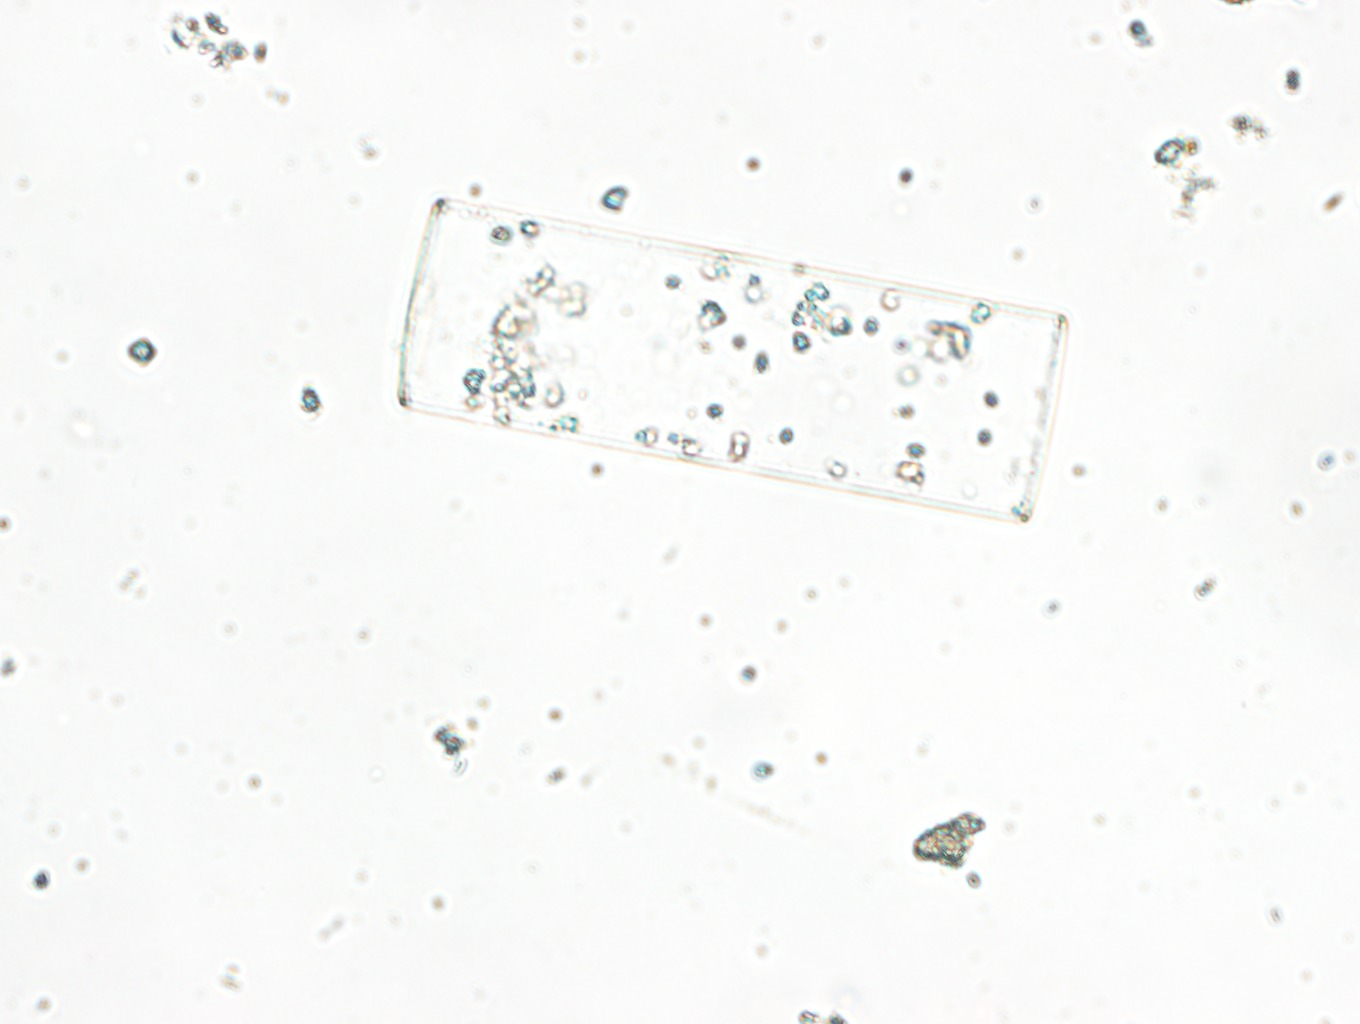guinardia flaccida: (395, 199, 1073, 524)
